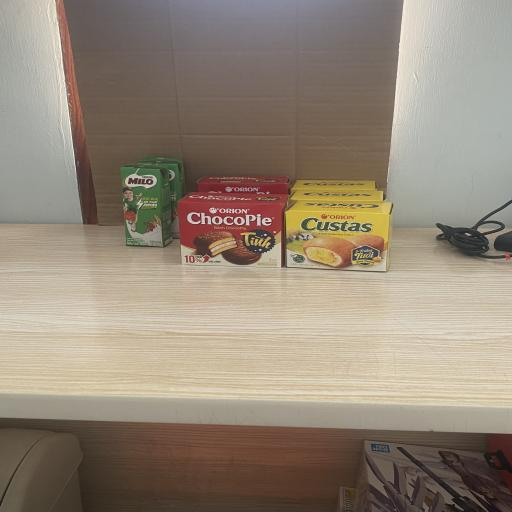chocopie: (176, 191, 289, 268), (196, 176, 290, 194)
custas: (285, 199, 393, 272), (290, 189, 384, 200), (290, 179, 378, 190)
milo: (120, 162, 172, 248), (138, 156, 184, 238)
